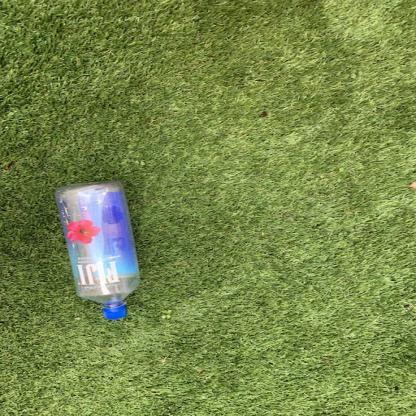trash: (54, 180, 144, 322)
